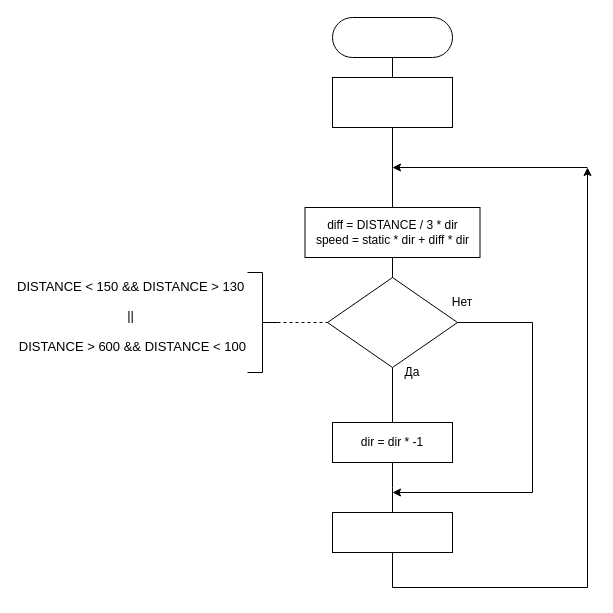
This 613x613 diagram has some shape labels left out. Here are the shapes that lost their labels. From the top down, the centre of each, then its label:
At point (392, 102): "ROT = 0 dir = -1 static = 30".
At point (392, 532): "Задержка 50 мс".
